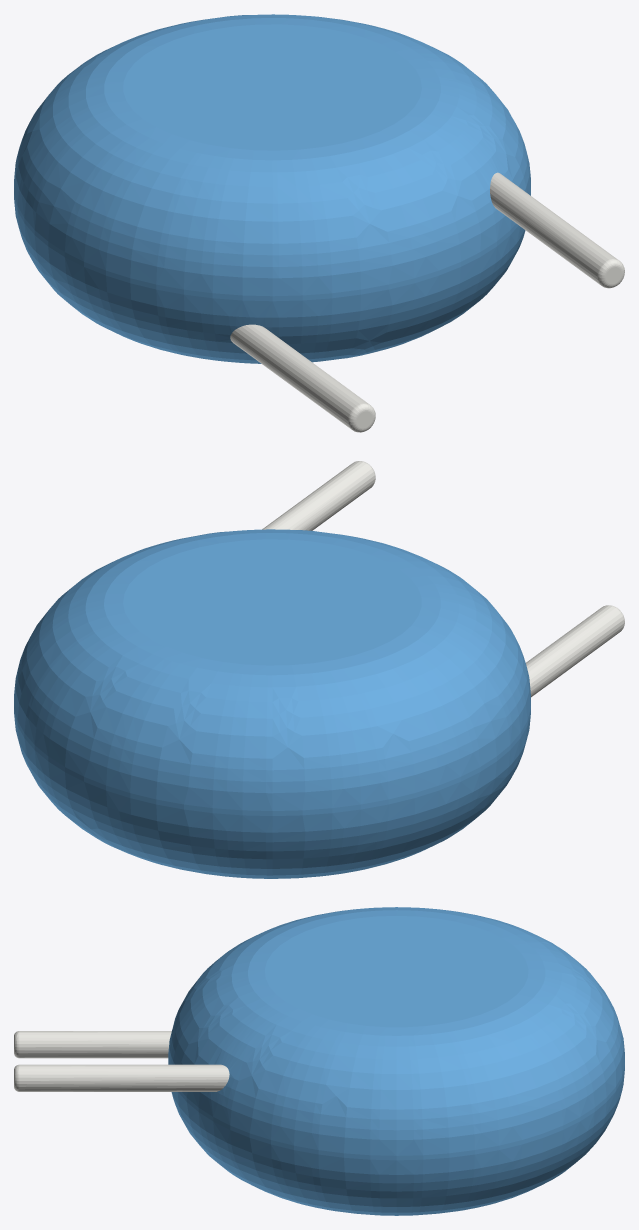
Rendered from RV_Disc_D9mm_W3.9mm_P5mm.glb.
3 views of the same model, one above another, from view 1: azimuth 30°, elevation 25°; view 2: azimuth 150°, elevation 25°; view 3: azimuth 270°, elevation 25° (orthographic). The views are drawn at different scales.
Visible parts, largest first — view 1: Shape_IndexedFaceSet.001, Shape_IndexedFaceSet.003, Shape_IndexedFaceSet.002, Shape_IndexedFaceSet.006, Shape_IndexedFaceSet.004, Shape_IndexedFaceSet; view 2: Shape_IndexedFaceSet.001, Shape_IndexedFaceSet.003, Shape_IndexedFaceSet.002, Shape_IndexedFaceSet.006, Shape_IndexedFaceSet.004, Shape_IndexedFaceSet; view 3: Shape_IndexedFaceSet.001, Shape_IndexedFaceSet.003, Shape_IndexedFaceSet.002, Shape_IndexedFaceSet.004, Shape_IndexedFaceSet.006, Shape_IndexedFaceSet.
Part boxes in pixels (x1,y1,x2,y2): Shape_IndexedFaceSet.001: (14,14,530,296); Shape_IndexedFaceSet.003: (123,24,421,150); Shape_IndexedFaceSet.002: (14,199,525,363); Shape_IndexedFaceSet.006: (230,324,368,428); Shape_IndexedFaceSet.004: (490,172,619,284); Shape_IndexedFaceSet: (14,194,530,301); Shape_IndexedFaceSet.001: (14,529,530,810); Shape_IndexedFaceSet.003: (123,539,421,665); Shape_IndexedFaceSet.002: (14,714,530,878); Shape_IndexedFaceSet.006: (526,605,623,697); Shape_IndexedFaceSet.004: (262,461,374,530); Shape_IndexedFaceSet: (14,709,530,815); Shape_IndexedFaceSet.001: (168,907,624,1155); Shape_IndexedFaceSet.003: (265,916,528,1027); Shape_IndexedFaceSet.002: (171,1070,624,1215); Shape_IndexedFaceSet.004: (19,1064,229,1091); Shape_IndexedFaceSet.006: (19,1031,171,1058); Shape_IndexedFaceSet: (178,1065,624,1160).
Size of the model in its own units: 3.54 by 1.54 by 4.73.
